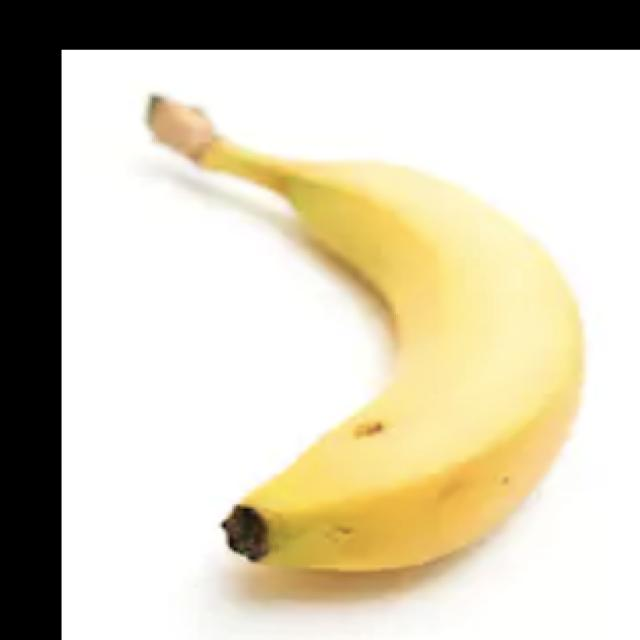Ripe: (121, 77, 602, 593)
